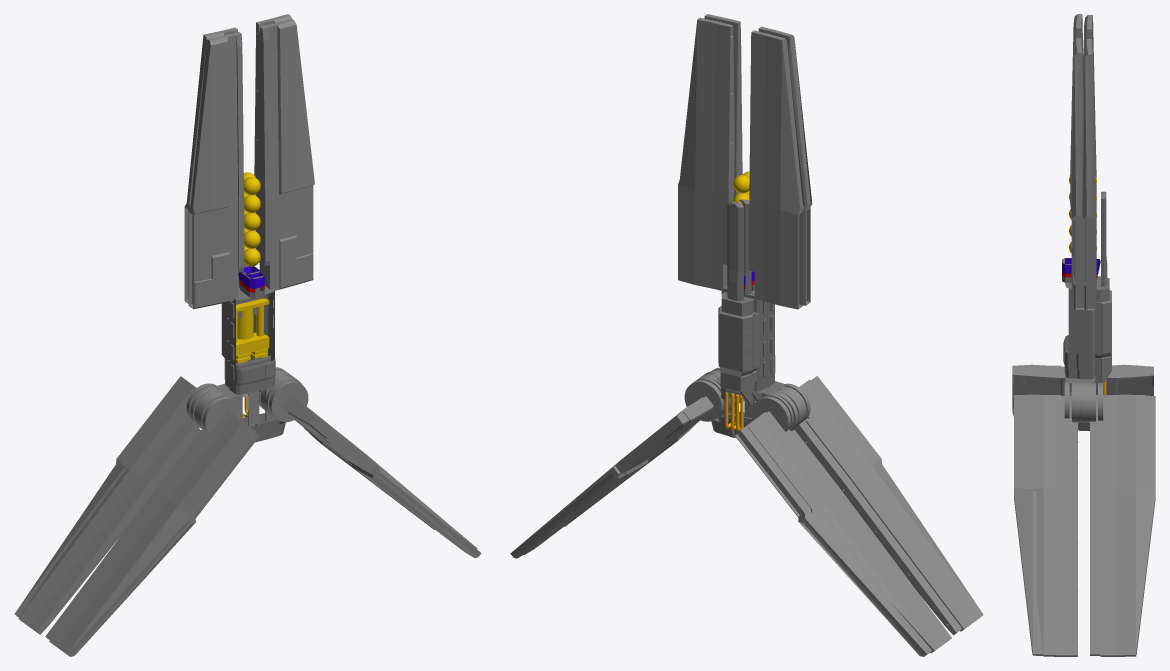
The model's file is Harper.fbx.
3 views of the same model, side by side, from view 1: azimuth 30°, elevation 25°; view 2: azimuth 150°, elevation 25°; view 3: azimuth 270°, elevation 25° (orthographic). The views are drawn at different scales.
Parts seen in each view (by area): view 1: Cube.011, Cube.009, Cube.006, Cube.003, Cube.015, Cube.007, Cube.181, Cylinder.005, Cube.180, Cube.005, Cube.002, Sphere.002 (+2 smaller); view 2: Cube.005, Cube.004, Cube.006, Cube.003, Cube.002, Cube.181, Cube.180, Cube.178, Cube.009, Cube.015, Cylinder.033, Cube.011 (+1 smaller); view 3: Cube.178, Cube.179, Cube.007, Cube.002, Cube.011, Cube.004, Cube.008, Cube.015, Cube.181, Cube.180, Cylinder.031, Cube.005 (+6 smaller).
Boxes of the visible parts, left/top/right/bottom form: Cube.011: left=258, top=18, right=314, bottom=290; Cube.009: left=188, top=32, right=244, bottom=309; Cube.006: left=49, top=412, right=259, bottom=656; Cube.003: left=18, top=381, right=200, bottom=634; Cube.015: left=219, top=263, right=285, bottom=442; Cube.007: left=282, top=397, right=481, bottom=557; Cube.181: left=14, top=376, right=196, bottom=617; Cylinder.005: left=202, top=380, right=308, bottom=433; Cube.180: left=45, top=411, right=255, bottom=639; Cube.005: left=184, top=27, right=237, bottom=303; Cube.002: left=215, top=266, right=280, bottom=430; Sphere.002: left=244, top=177, right=260, bottom=266; Cube.005: left=749, top=30, right=804, bottom=309; Cube.004: left=678, top=17, right=734, bottom=290; Cube.006: left=800, top=376, right=983, bottom=631; Cube.003: left=747, top=411, right=951, bottom=653; Cube.002: left=711, top=201, right=775, bottom=437; Cube.181: left=734, top=412, right=932, bottom=656; Cube.180: left=791, top=379, right=961, bottom=635; Cube.178: left=510, top=397, right=702, bottom=558; Cube.009: left=758, top=26, right=812, bottom=305; Cube.015: left=718, top=199, right=785, bottom=428; Cylinder.033: left=684, top=380, right=790, bottom=431; Cube.011: left=704, top=14, right=742, bottom=197; Cube.178: left=1100, top=395, right=1155, bottom=656; Cube.179: left=1024, top=395, right=1077, bottom=656; Cube.007: left=1014, top=394, right=1061, bottom=655; Cube.002: left=1076, top=191, right=1111, bottom=430; Cube.011: left=1070, top=38, right=1085, bottom=310; Cube.004: left=1082, top=39, right=1096, bottom=310; Cube.008: left=1090, top=394, right=1144, bottom=655; Cube.015: left=1062, top=258, right=1099, bottom=430; Cube.181: left=1106, top=365, right=1153, bottom=395; Cube.180: left=1023, top=365, right=1071, bottom=395; Cylinder.031: left=1082, top=382, right=1095, bottom=422; Cube.005: left=1083, top=15, right=1096, bottom=208.
Bounding box in the file's own units: 346550 × 444842 × 109212.
